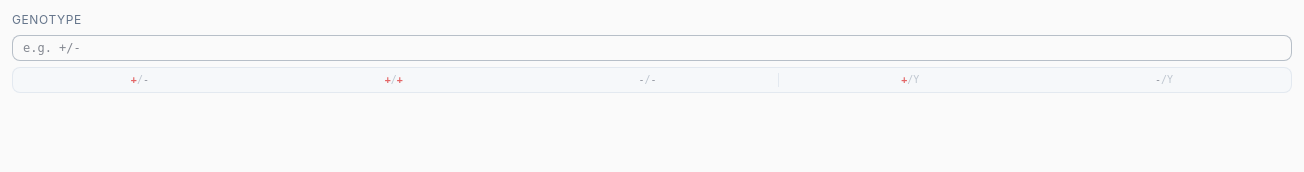
it: bulk genotype text › saves on Enter and allows a later preset selection
In the field labelled "Genotype": (652, 48) [12,35,1292,61], type "custom"
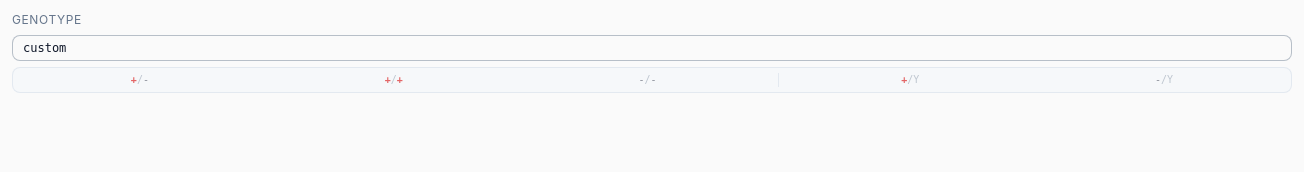
Press Enter in the field labelled "Genotype", box [12,35,1292,61]
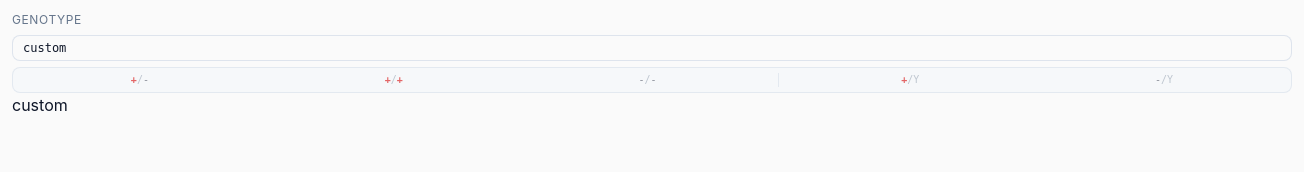
Check: the text named "Saved genotype" reads "custom", box [12,95,68,115]
Click the button titled "Set +/+": (394, 80) [269,70,519,90]
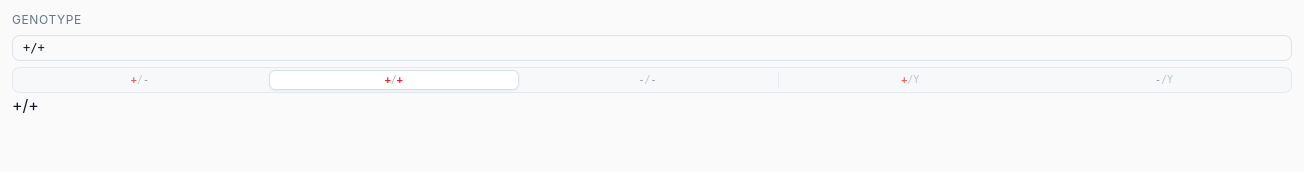
Check: the text named "Saved genotype" reads "+/+", box [12,95,39,115]
